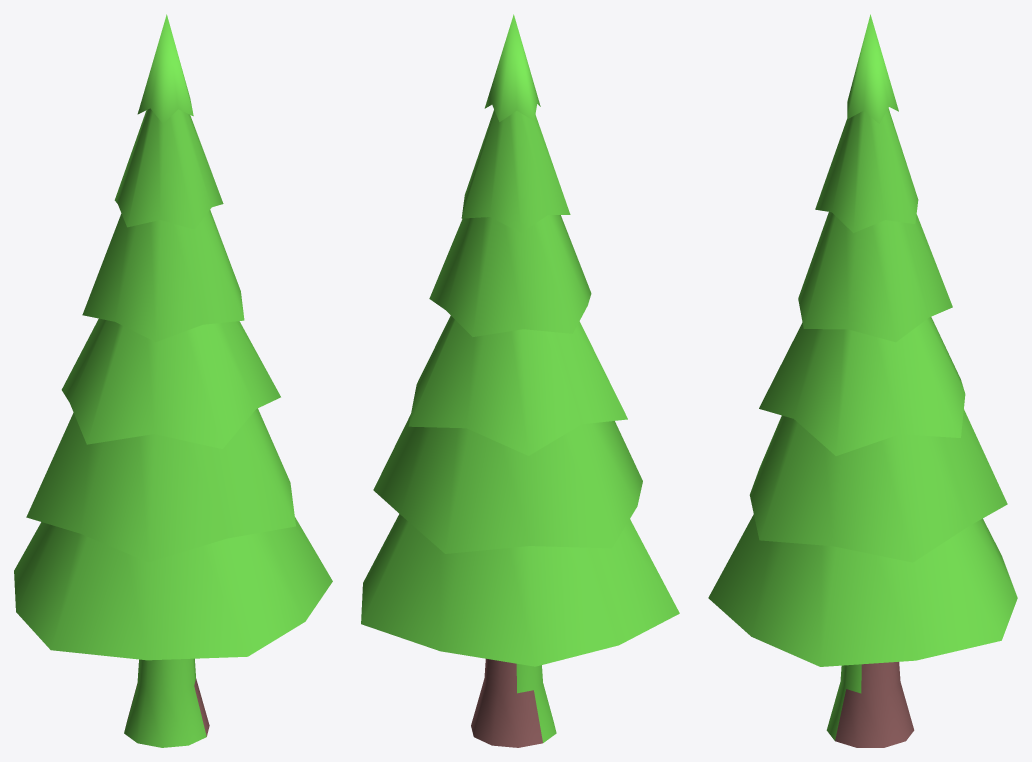
Rendered from LowPolyTree2.fbx.
3 renders of one model, left to right at view 1: azimuth 30°, elevation 25°; view 2: azimuth 150°, elevation 25°; view 3: azimuth 270°, elevation 25°, orthographic.
Visible parts, largest first — view 1: Tree01; view 2: Tree01; view 3: Tree01.
Boxes of the visible parts, x1,y1,x2,y2 form: Tree01: (14,14,332,747); Tree01: (361,14,679,747); Tree01: (708,14,1017,747).
Bounding box in the file's own units: 158 × 384 × 150.
